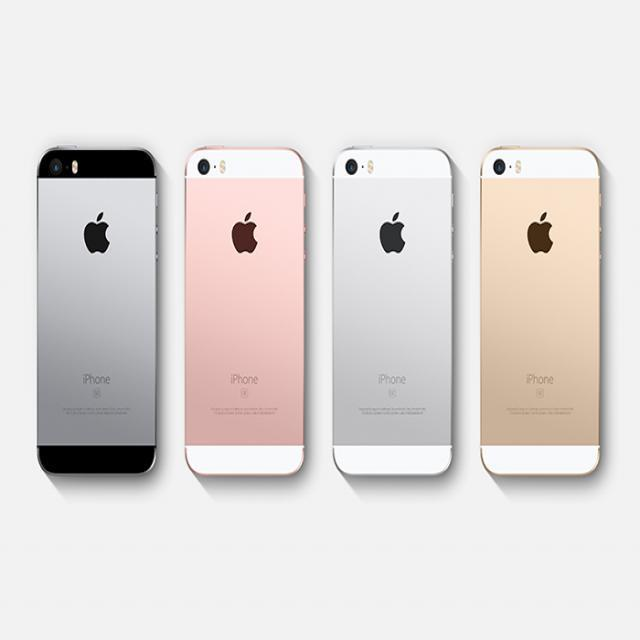phone: (478, 143, 602, 476), (331, 146, 454, 480), (183, 144, 304, 476), (36, 144, 156, 474)
